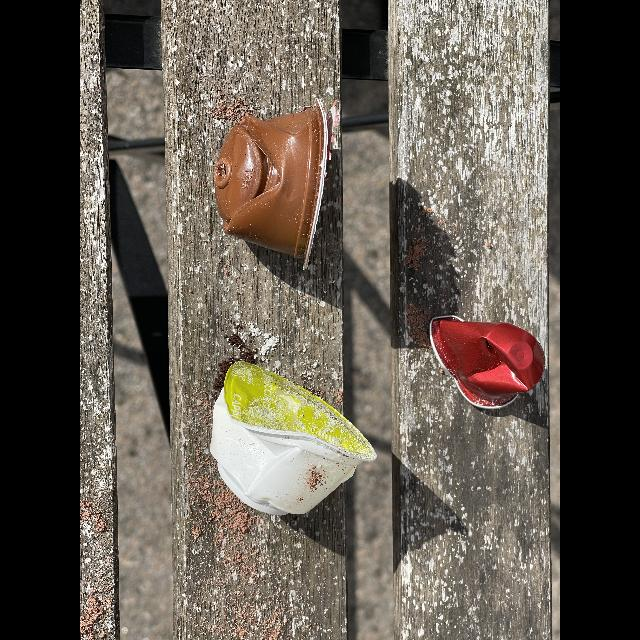damaged_capsule: (202, 348, 380, 534), (200, 86, 346, 280), (422, 310, 548, 430)
